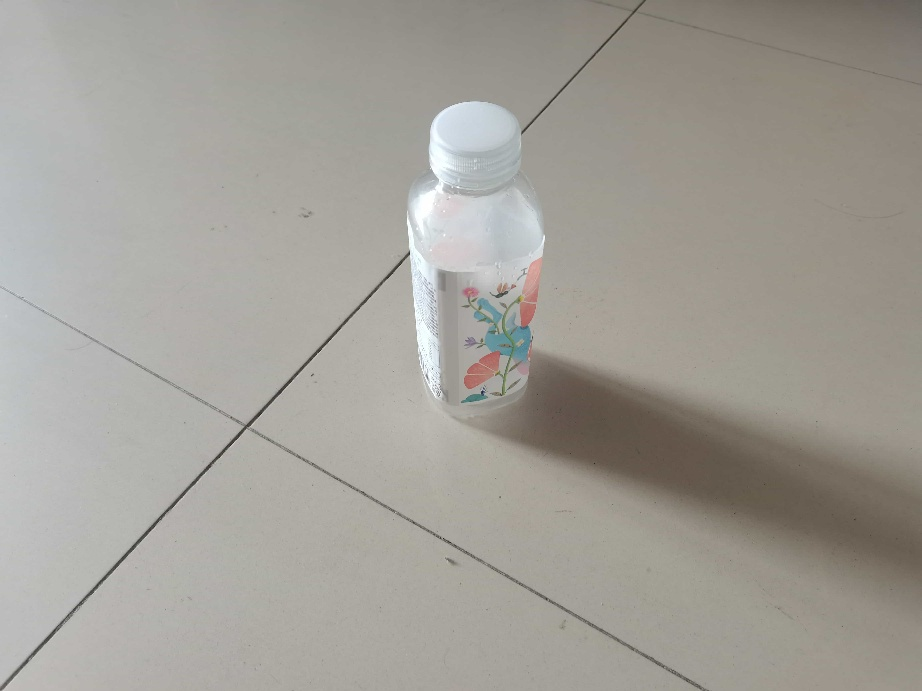plastic bottle: (399, 96, 557, 426)
